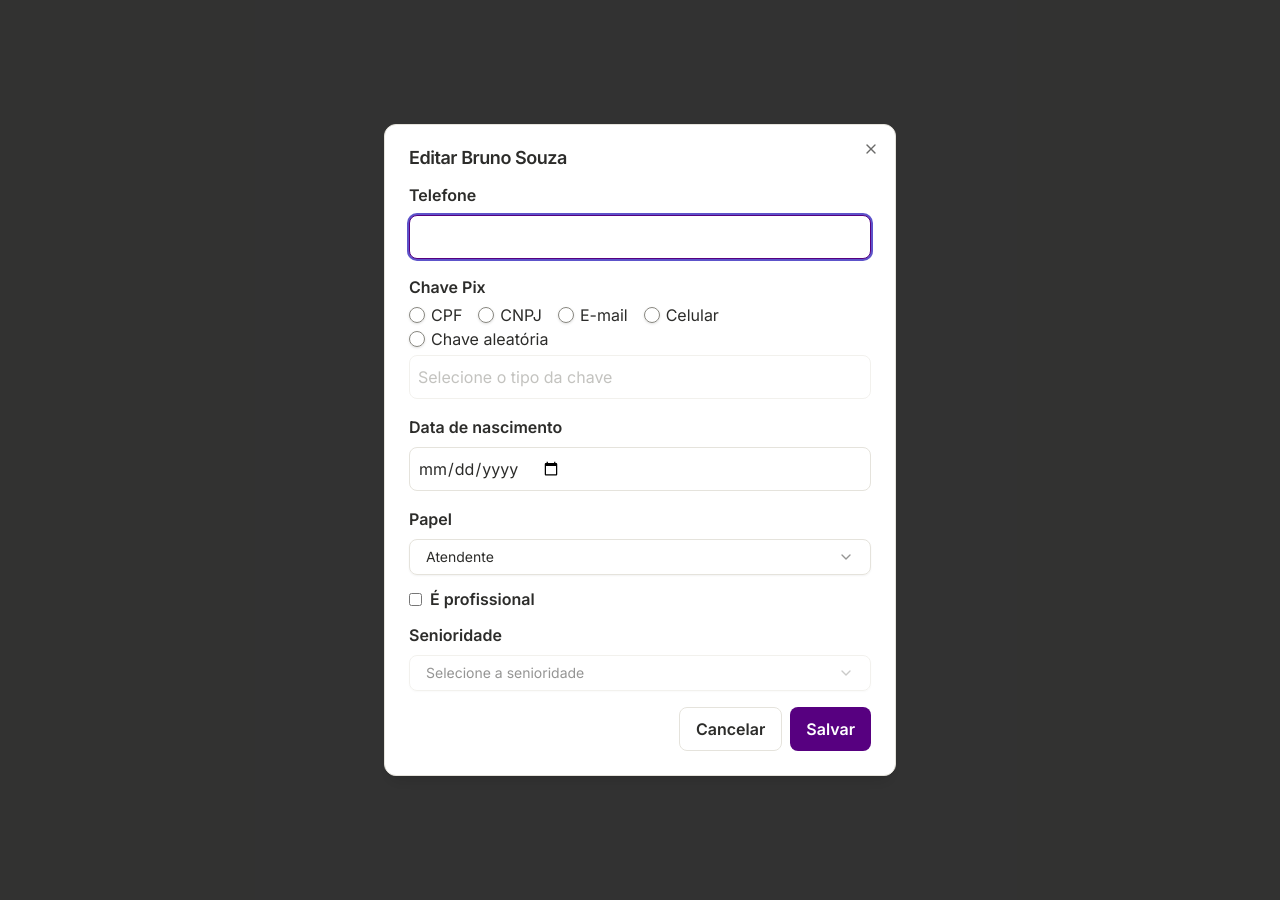
MemberEditDialog › marking isProfessional enables seniority; unmarking disables and clears it
The width and height of the screenshot is (1280, 900).
Expected: the dropdown labelled "senioridade" is disabled, [409,655,871,691]
Click the checkbox labelled "É profissional" at (416, 599), box [409,592,422,606]
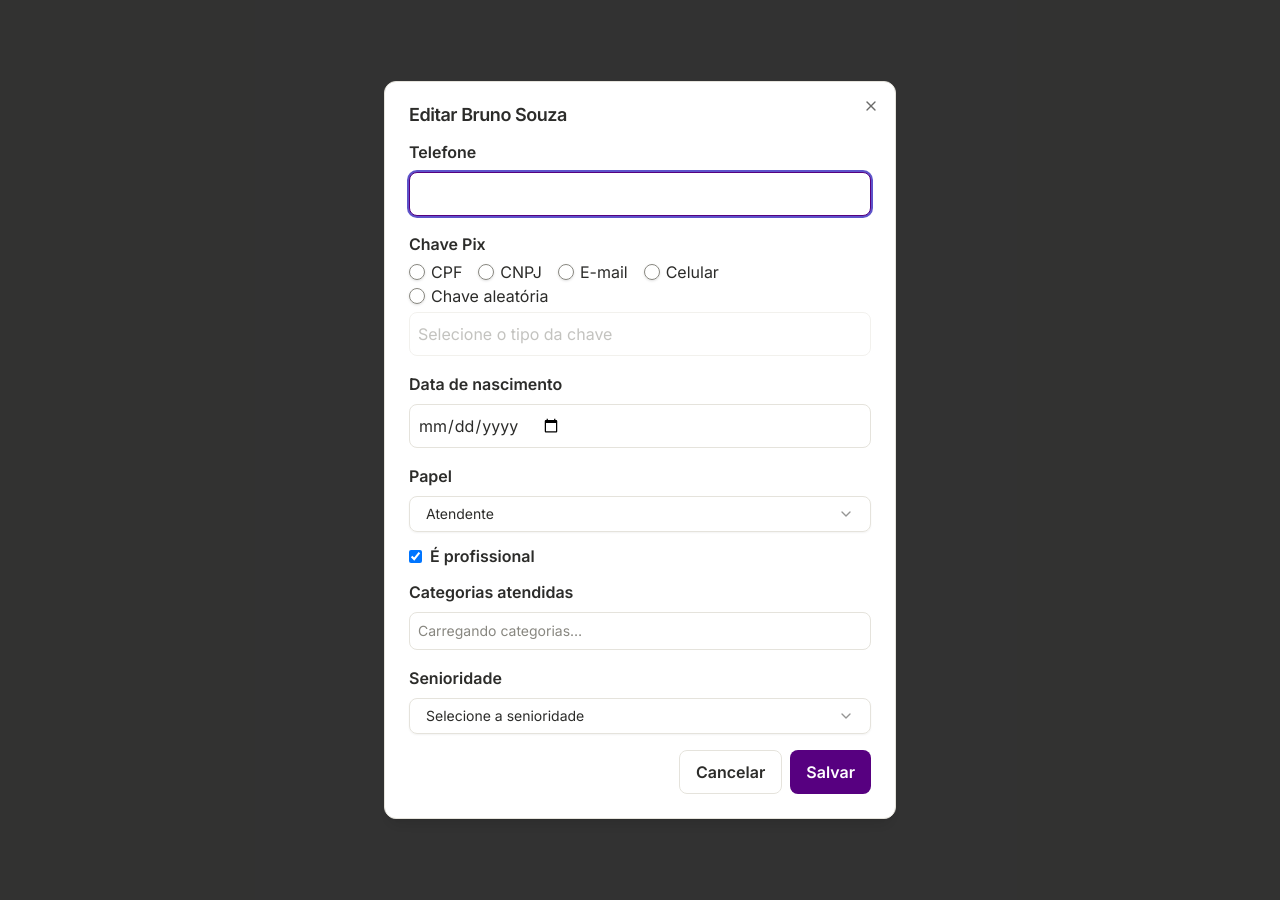
Expected: the dropdown labelled "senioridade" is enabled, [409,698,871,734]
Click the checkbox labelled "É profissional" at (416, 556), box [409,550,422,562]
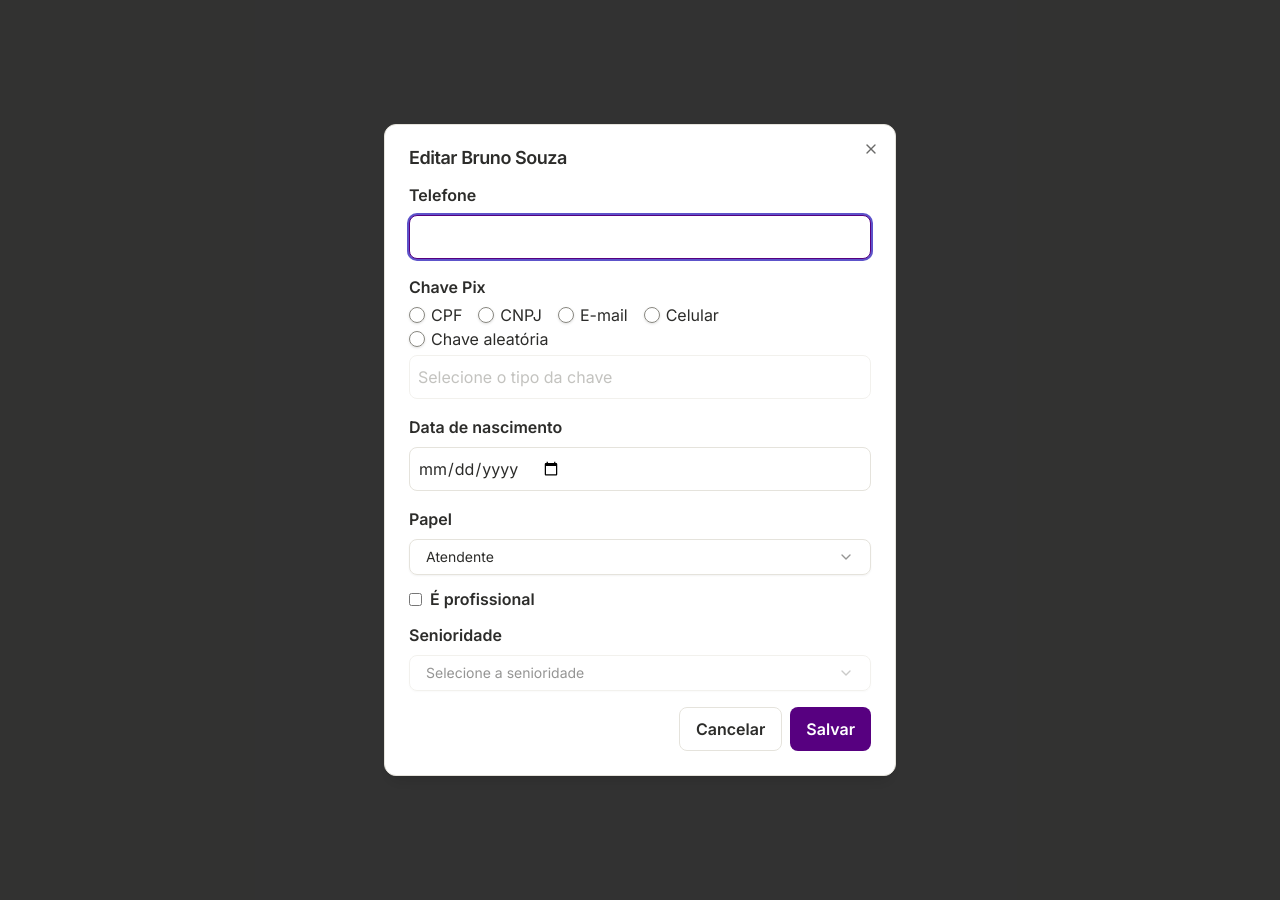
Expected: the dropdown labelled "senioridade" is disabled, [409,655,871,691]
